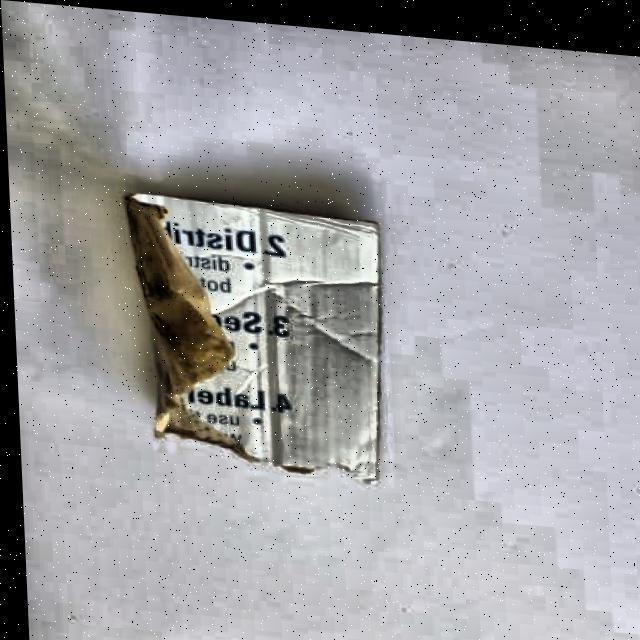cardboard: (123, 192, 393, 487)
